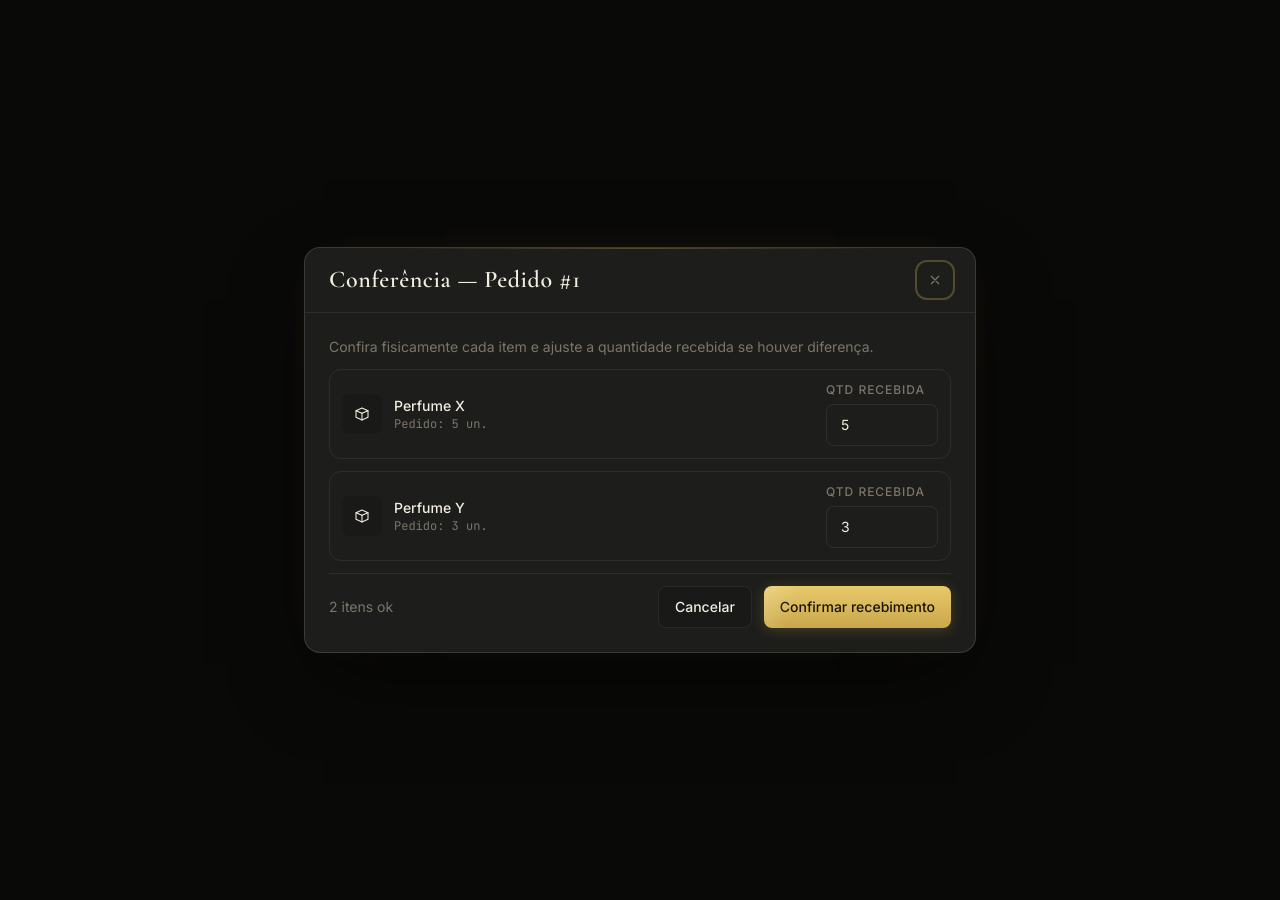
Test: ConferenciaModal › bloqueia confirmação com qtd divergente sem tipo classificado
Expected: the text "Perfume X" is shown, 394,397 -> 465,414
Step 1. Clear the number field labelled "Qtd recebida" in the row of "Perfume X" → (882, 425), box 826,404 -> 938,446
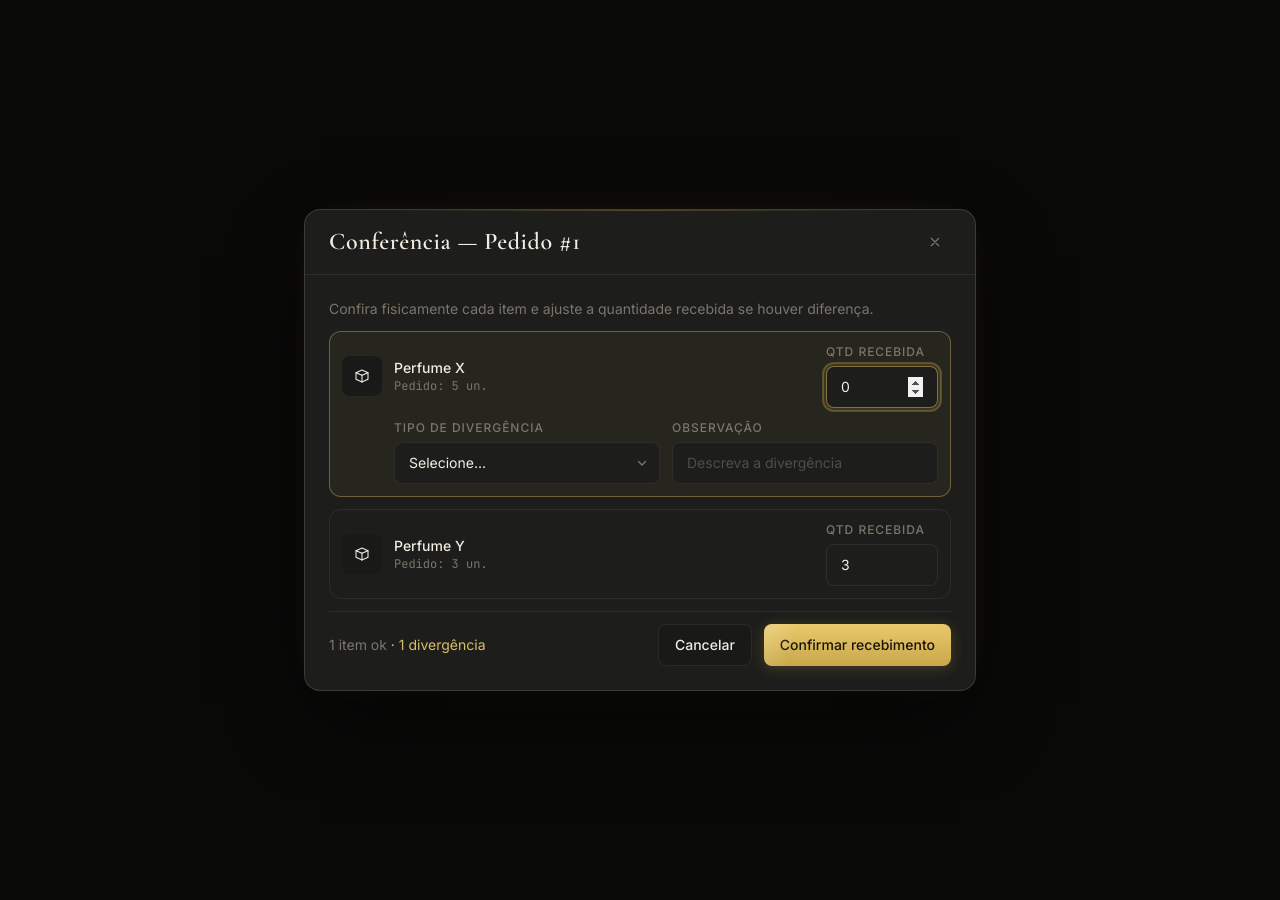
Step 2. Type "3" into the number field labelled "Qtd recebida" in the row of "Perfume X" → (882, 387), box 826,366 -> 938,408
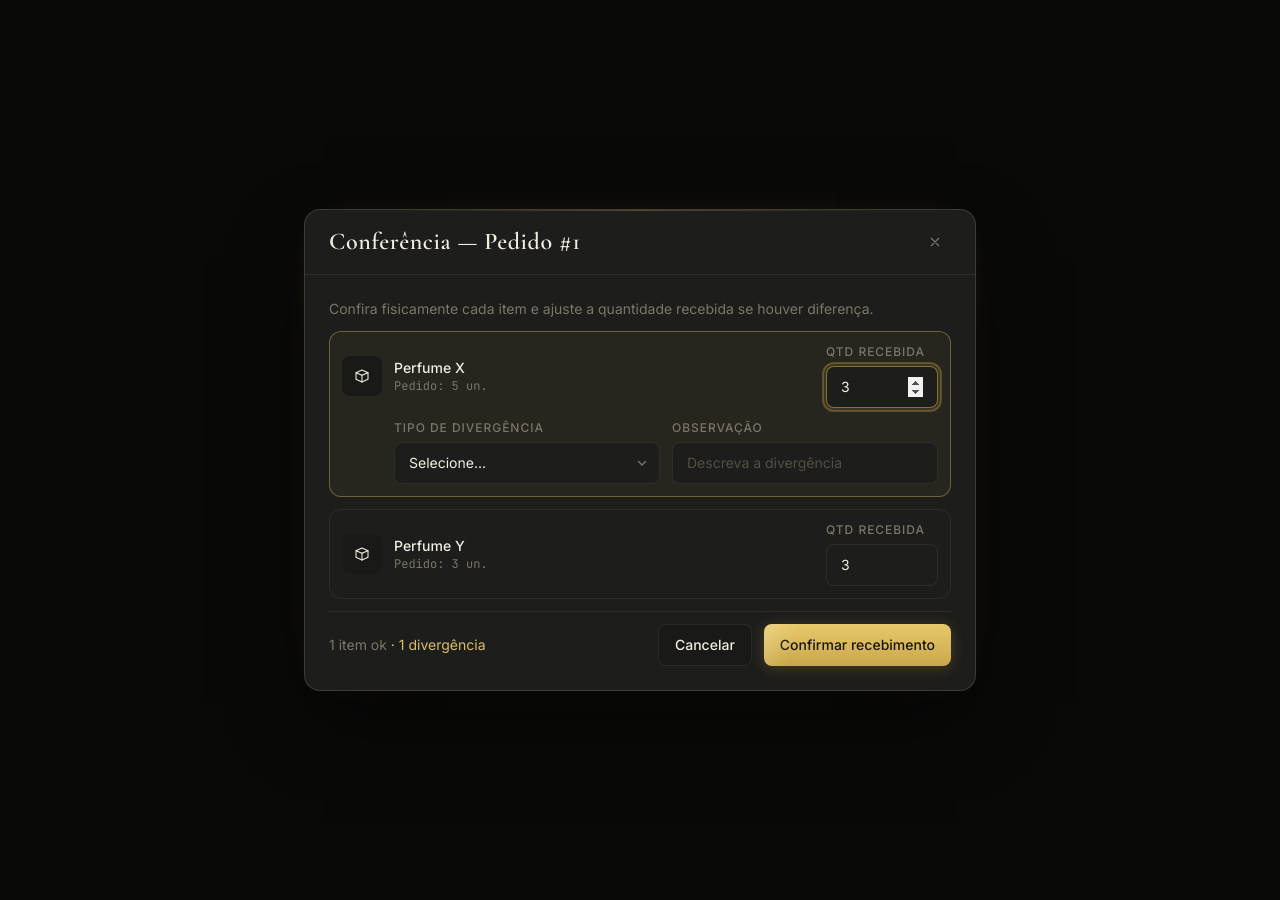
Step 3. Click the button "Confirmar recebimento" → (857, 645), box 764,624 -> 951,666
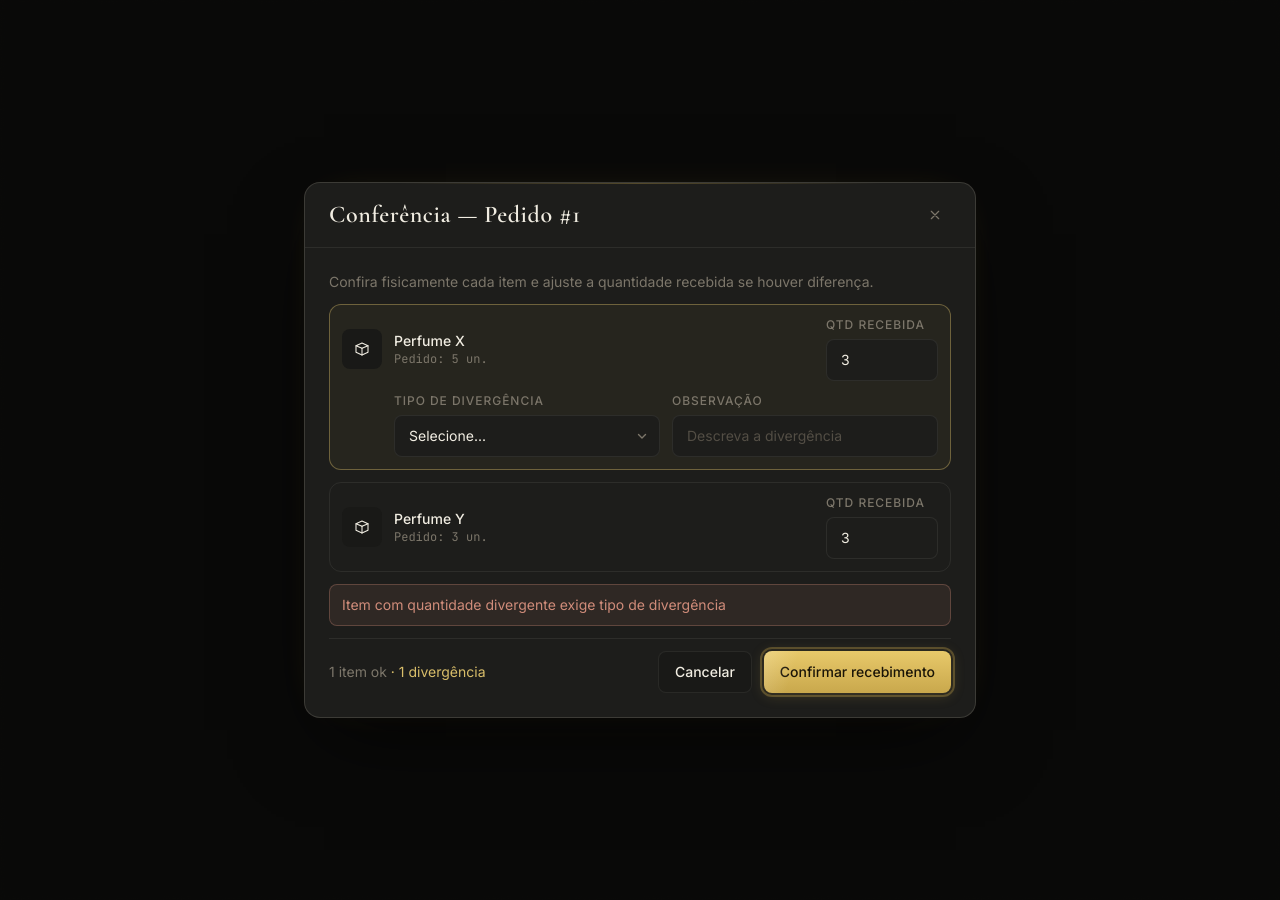
Now the text "Item com quantidade divergente exige tipo de divergência" is shown, box 329,584 -> 951,626
